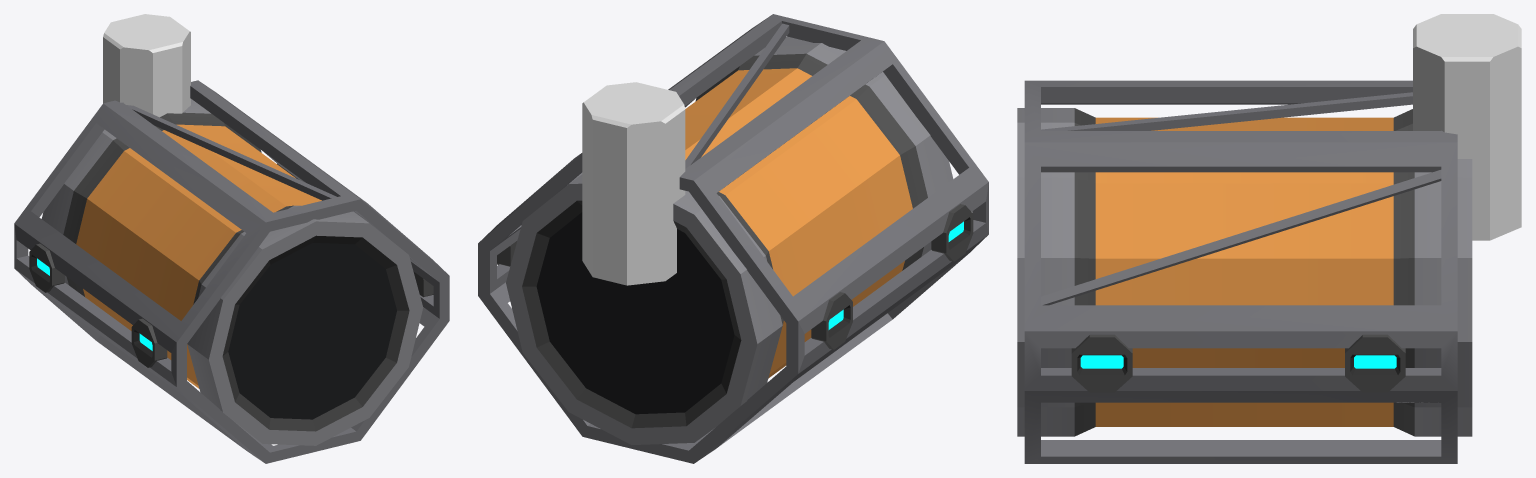
File: SM_Prop_SpaceWalk_Tube_01.fbx
3 views of the same model, side by side, from view 1: azimuth 30°, elevation 25°; view 2: azimuth 150°, elevation 25°; view 3: azimuth 270°, elevation 25° (orthographic). The views are drawn at different scales.
Parts seen in each view (by area): view 1: SM_Prop_SpaceWalk_Tube_01_LOD0, SM_Prop_SpaceWalk_Tube_01_ConvexHulls; view 2: SM_Prop_SpaceWalk_Tube_01_LOD0, SM_Prop_SpaceWalk_Tube_01_ConvexHulls; view 3: SM_Prop_SpaceWalk_Tube_01_LOD0, SM_Prop_SpaceWalk_Tube_01_ConvexHulls.
Part boxes in pixels (<box>): SM_Prop_SpaceWalk_Tube_01_LOD0: <box>14,80,449,463</box>; SM_Prop_SpaceWalk_Tube_01_ConvexHulls: <box>103,14,190,117</box>; SM_Prop_SpaceWalk_Tube_01_LOD0: <box>478,14,988,463</box>; SM_Prop_SpaceWalk_Tube_01_ConvexHulls: <box>582,82,685,285</box>; SM_Prop_SpaceWalk_Tube_01_LOD0: <box>1017,80,1472,463</box>; SM_Prop_SpaceWalk_Tube_01_ConvexHulls: <box>1413,14,1521,240</box>.
Bounding box in the file's own units: 554 × 476 × 485.
Materials: 1 (1 with a texture image).
